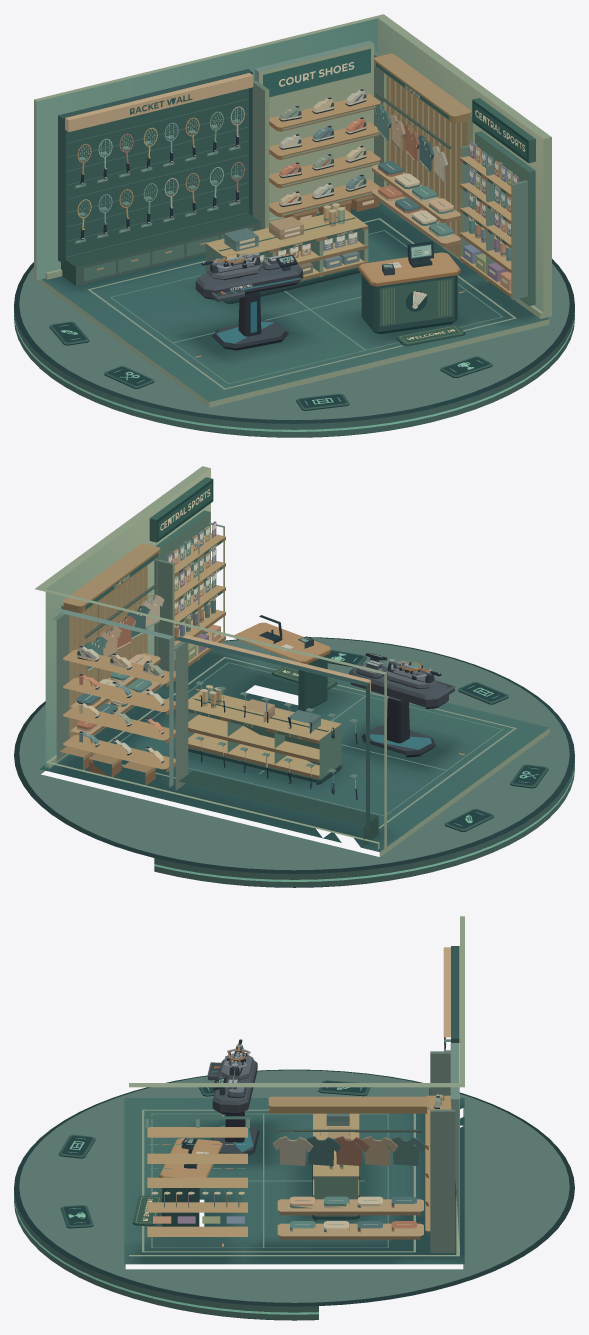
The model's file is badminton store interior.glb.
3 views of the same model, one above another, from view 1: azimuth 30°, elevation 25°; view 2: azimuth 150°, elevation 25°; view 3: azimuth 270°, elevation 25° (orthographic).
Visible parts, largest first — view 1: Court Floor and Lines, Racket Wall, Platform, Court Shoe Shelves, Walls and Trim, Apparel Display, Accessories Display and Sign, Center Display Island, Checkout Counter and Register, Racket Stringing Station, Welcome Mat, Court (+3 smaller); view 2: Platform, Court Floor and Lines, Court Shoe Shelves, Accessories Display and Sign, Center Display Island, Apparel Display, Walls and Trim, Racket Wall, Racket Stringing Station, Checkout Counter and Register, Court, shuttlecock (+1 smaller); view 3: Platform, Court Floor and Lines, Apparel Display, Accessories Display and Sign, Court Shoe Shelves, Walls and Trim, Racket Stringing Station, Center Display Island, Checkout Counter and Register, Racket Wall, Trophy, Court (+1 smaller).
Boxes of the visible parts, <box> form: Court Floor and Lines: <box>39,202,549,407</box>; Racket Wall: <box>58,69,260,285</box>; Platform: <box>14,259,574,437</box>; Court Shoe Shelves: <box>252,40,386,229</box>; Walls and Trim: <box>34,14,551,318</box>; Apparel Display: <box>372,53,472,257</box>; Accessories Display and Sign: <box>460,98,535,305</box>; Center Display Island: <box>205,203,368,303</box>; Checkout Counter and Register: <box>358,241,460,333</box>; Racket Stringing Station: <box>195,252,303,350</box>; Welcome Mat: <box>396,325,465,346</box>; Court: <box>296,393,349,410</box>; Platform: <box>14,637,574,887</box>; Court Floor and Lines: <box>39,649,549,857</box>; Court Shoe Shelves: <box>52,608,188,790</box>; Accessories Display and Sign: <box>149,477,225,672</box>; Center Display Island: <box>188,685,341,784</box>; Apparel Display: <box>61,543,164,738</box>; Walls and Trim: <box>35,466,386,853</box>; Racket Wall: <box>176,635,378,844</box>; Racket Stringing Station: <box>349,653,455,757</box>; Checkout Counter and Register: <box>235,615,330,711</box>; Court: <box>458,682,508,704</box>; shuttlecock: <box>444,809,493,831</box>; Platform: <box>14,1069,574,1320</box>; Court Floor and Lines: <box>124,1098,464,1264</box>; Apparel Display: <box>268,1096,429,1239</box>; Accessories Display and Sign: <box>144,1116,251,1236</box>; Court Shoe Shelves: <box>425,1043,459,1252</box>; Walls and Trim: <box>129,916,464,1256</box>; Racket Stringing Station: <box>207,1039,259,1155</box>; Center Display Island: <box>312,1113,359,1221</box>; Checkout Counter and Register: <box>159,1138,222,1226</box>; Racket Wall: <box>429,946,459,1197</box>; Trophy: <box>60,1205,93,1228</box>; Court: <box>58,1134,95,1158</box>.
Size of the model in its own units: 9.5 by 3.78 by 9.5.
